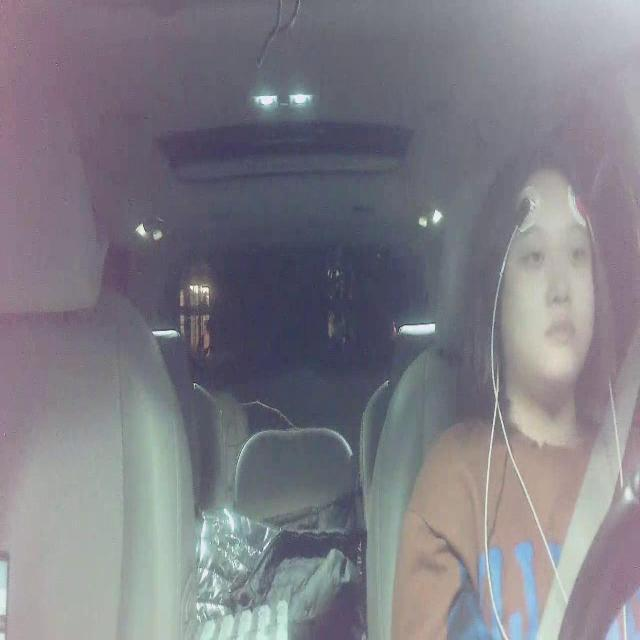Attentive: (479, 145, 608, 395)
